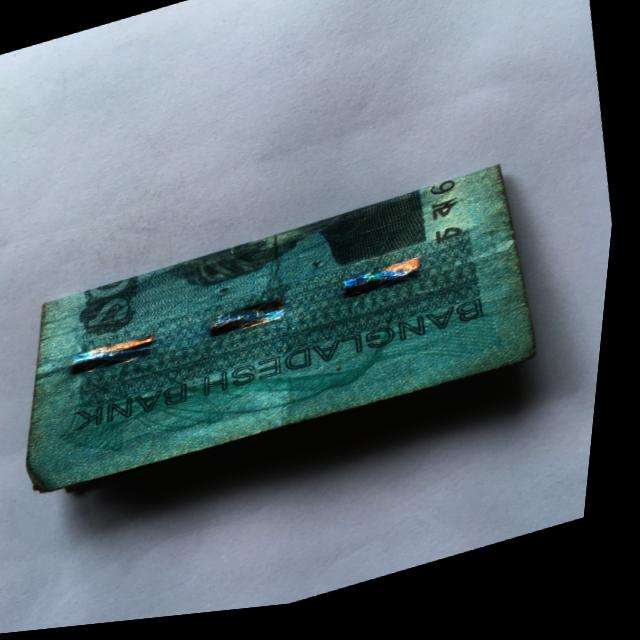Taka: (14, 164, 562, 503)
